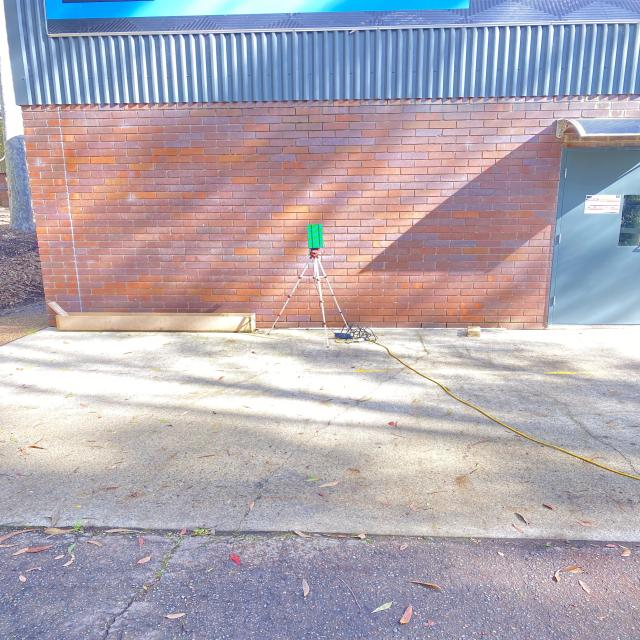matrix: (301, 222, 329, 253)
